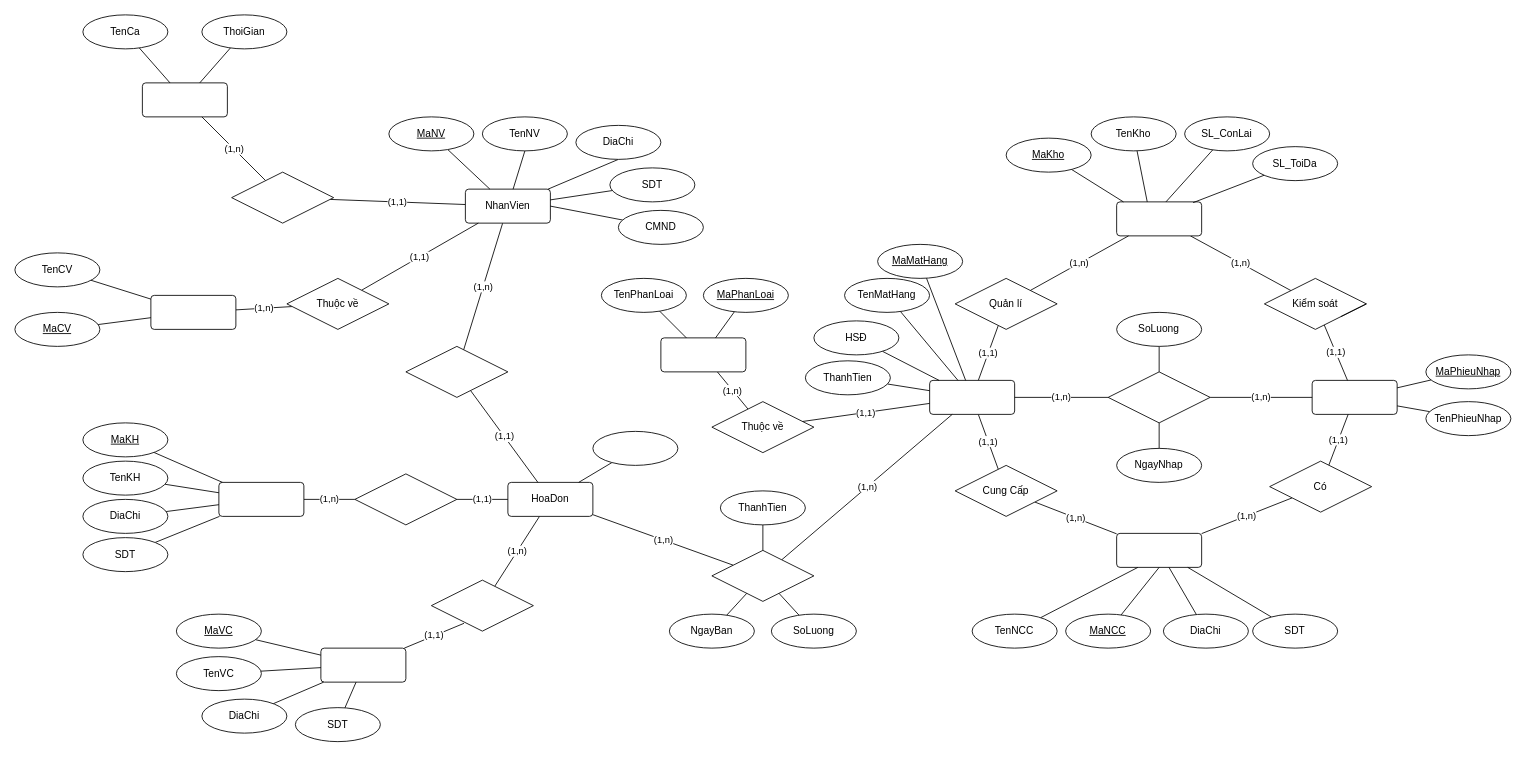
This 1526x757 diagram has some shape labels left out. Here are the shapes that lost their labels. From the top down, the centre of each, then its label:
[184,99]: CaLamViec
[282,197]: Làm việc
[1159,218]: KhoHang
[193,312]: ChucVu
[456,371]: Bán
[703,354]: LoaiMatHang
[972,397]: MatHang
[1158,397]: CTPN
[1354,397]: PhieuNhapHang
[635,448]: MaHoaDon
[261,499]: KhachHang
[405,499]: Thanh Toán
[1159,550]: NhaCungCap
[762,575]: CTHD
[482,605]: Vận Chuyển
[363,664]: DonViVanChuyen
